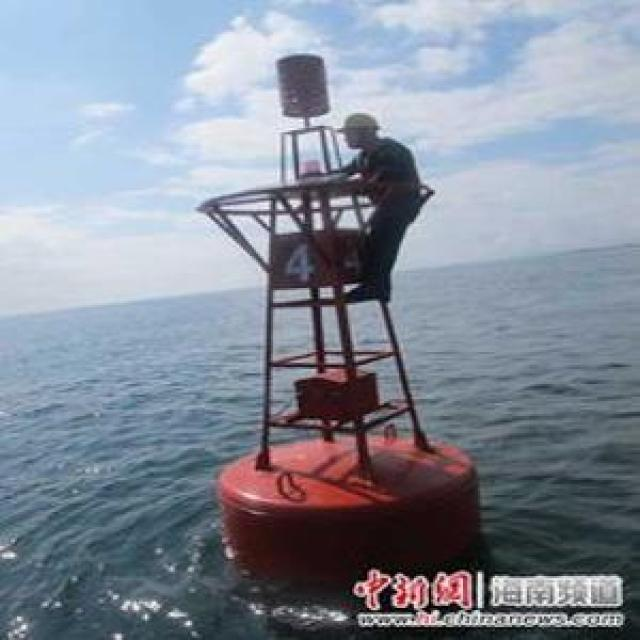buoy: (142, 58, 519, 568)
